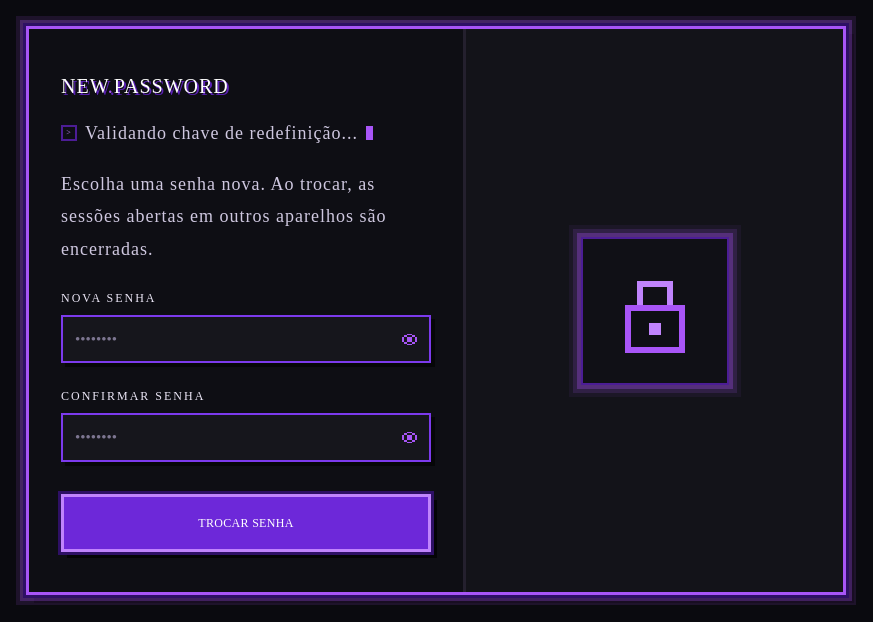
PainelNovaSenha › troca a senha mandando o token da URL
This screenshot has width=873, height=622.
Type "Outra-trilha-de-java-7" into the password field labelled "NOVA SENHA".
click(234, 339); type("Outra-trilha-de-java-7")  # box [75,317,394,362]
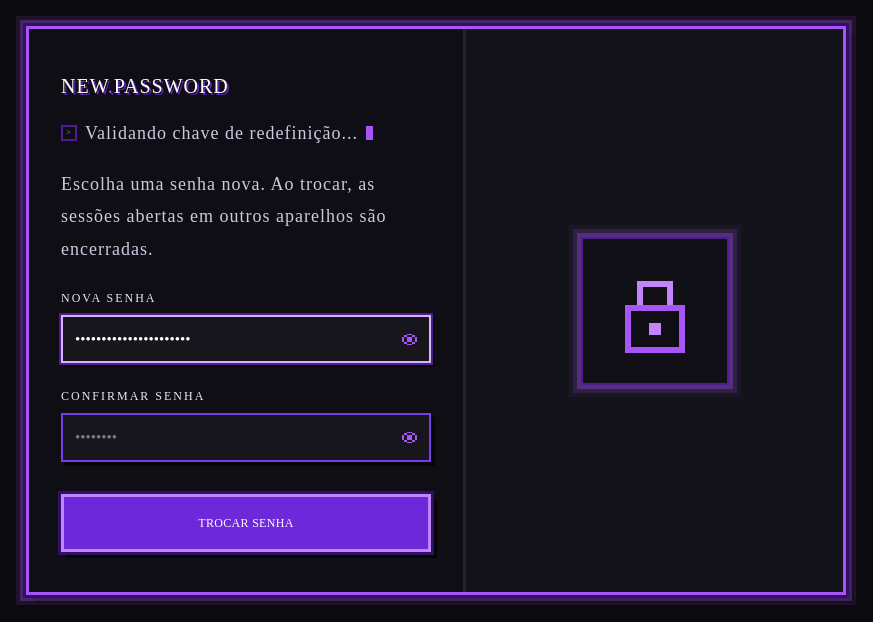
Type "Outra-trilha-de-java-7" into the password field labelled "CONFIRMAR SENHA".
click(234, 438); type("Outra-trilha-de-java-7")  # box [75,416,394,460]
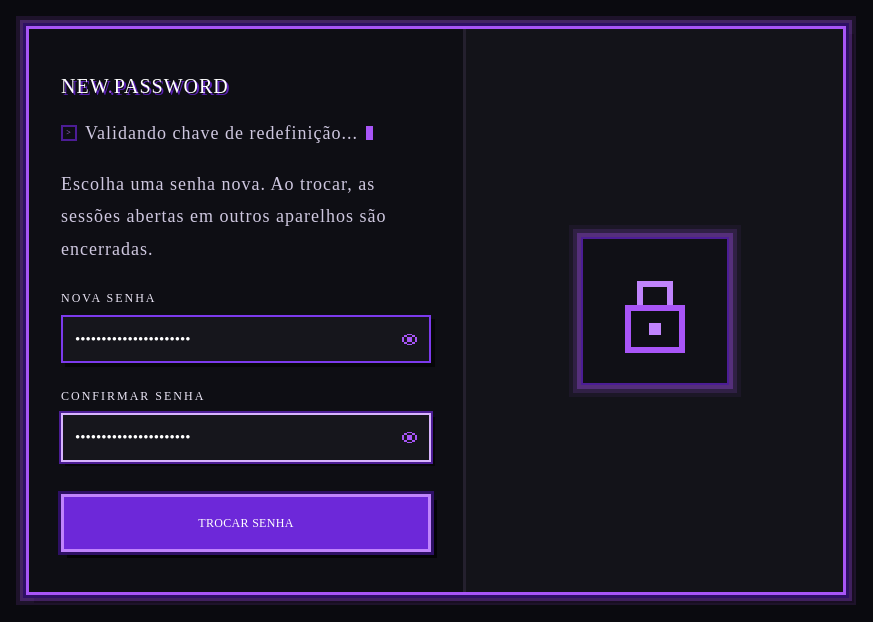
Click the button "TROCAR SENHA".
click(246, 523)  # box [61,494,431,552]
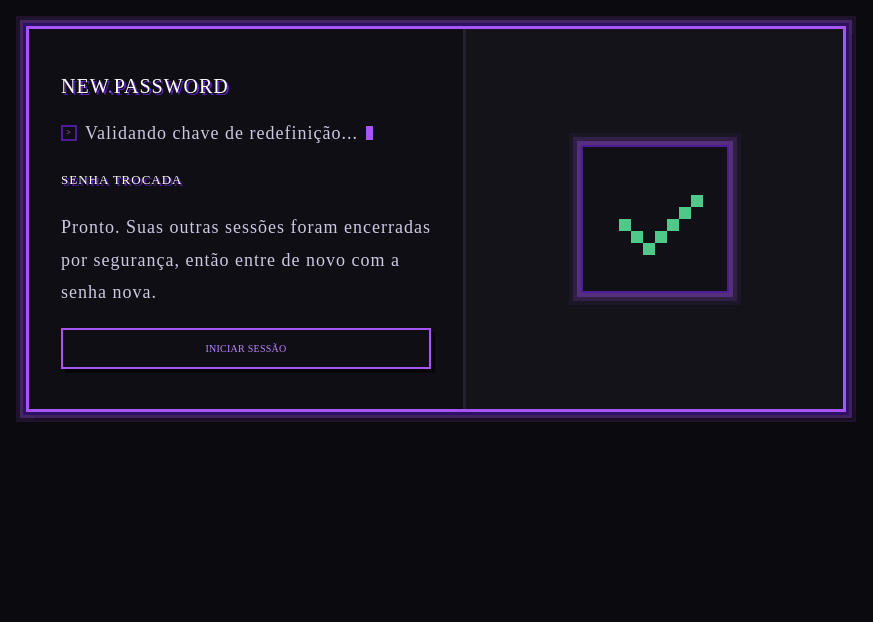
Result: the heading "SENHA TROCADA" is shown at [61,172,182,187]
